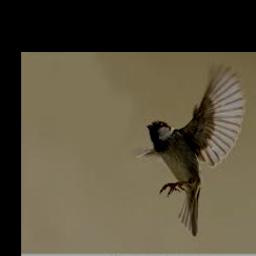Sparrow: (137, 61, 244, 236)
